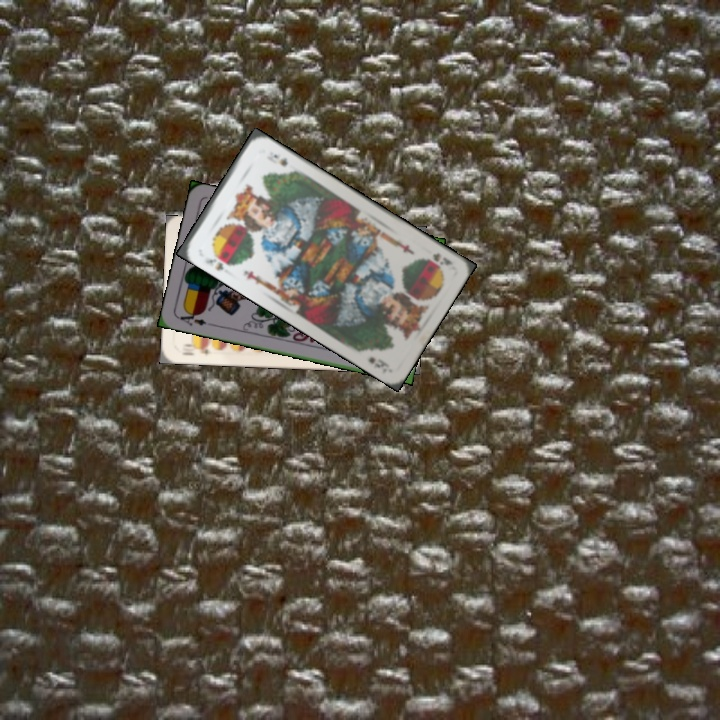E10: (177, 340, 212, 358)
EA: (175, 307, 209, 328)
SK: (201, 248, 235, 273), (423, 249, 455, 270)
